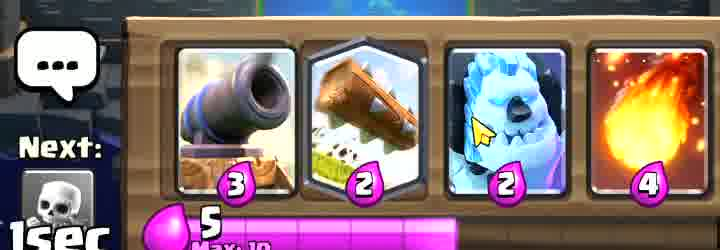cannon: (184, 49, 295, 194)
fireball: (595, 46, 710, 194)
ice-golem: (447, 51, 562, 198)
log: (310, 43, 422, 190)
